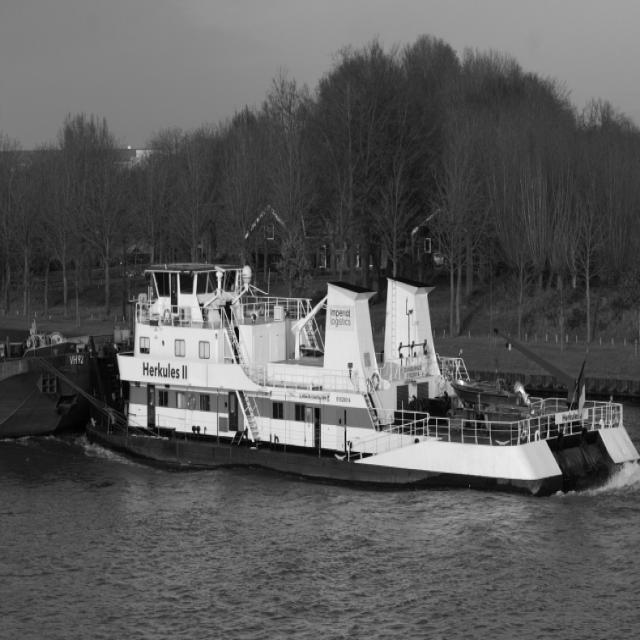tugboat: (68, 242, 640, 518)
